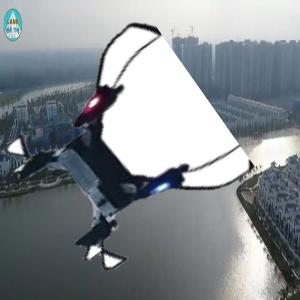drone: (16, 52, 225, 261)
